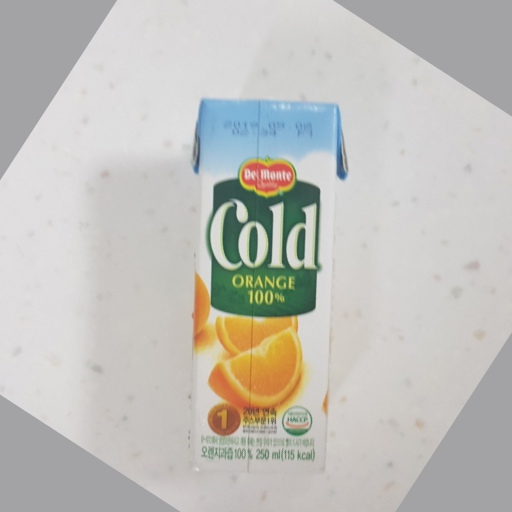Paper_0: (179, 87, 351, 481)
